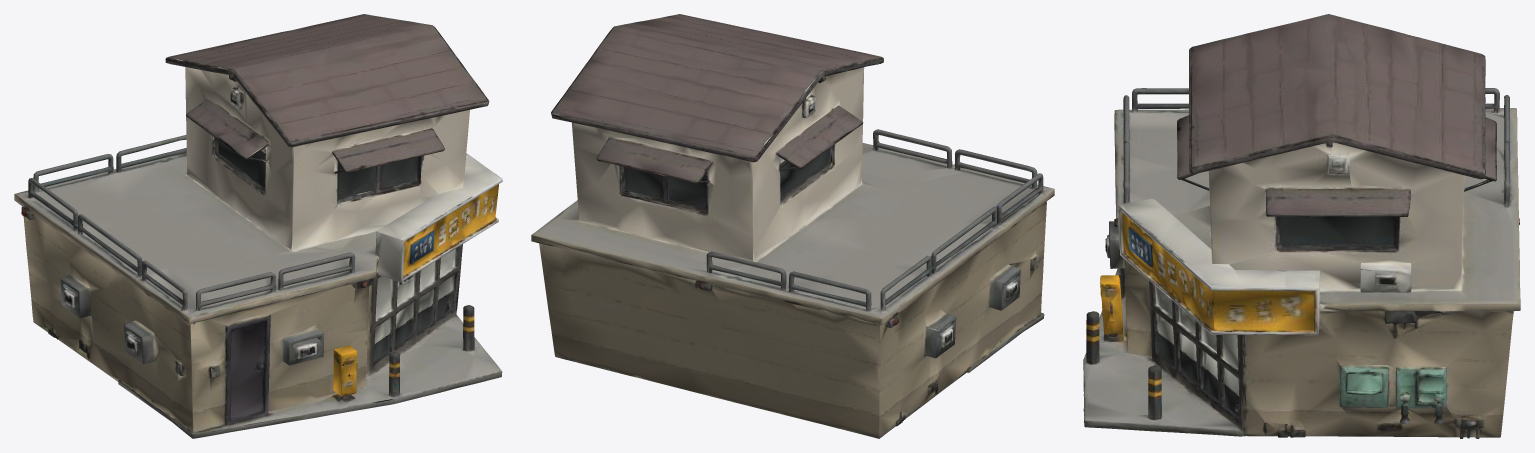
File: building5.glb
The picture shows the model from 3 angles, left to right: view 1: azimuth 30°, elevation 25°; view 2: azimuth 150°, elevation 25°; view 3: azimuth 270°, elevation 25°; orthographic projection. The views are drawn at different scales.
Parts seen in each view (by area): view 1: lo; view 2: lo; view 3: lo.
Boxes of the visible parts, x1,y1,x2,y2 form: lo: (14, 14, 502, 438); lo: (531, 14, 1054, 438); lo: (1083, 14, 1520, 438).
Bounding box in the file's own units: 0.9999 × 0.7174 × 0.8817.
1 material, 1 textured.
